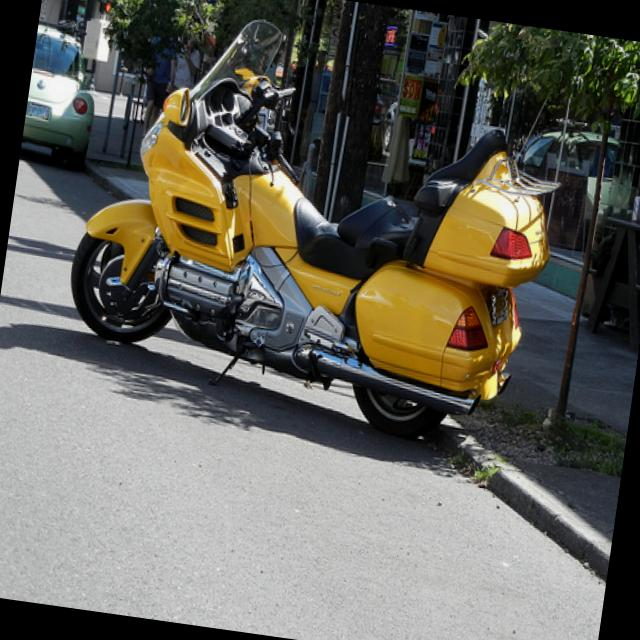Vehicle: (51, 2, 579, 457), (22, 25, 106, 151)
